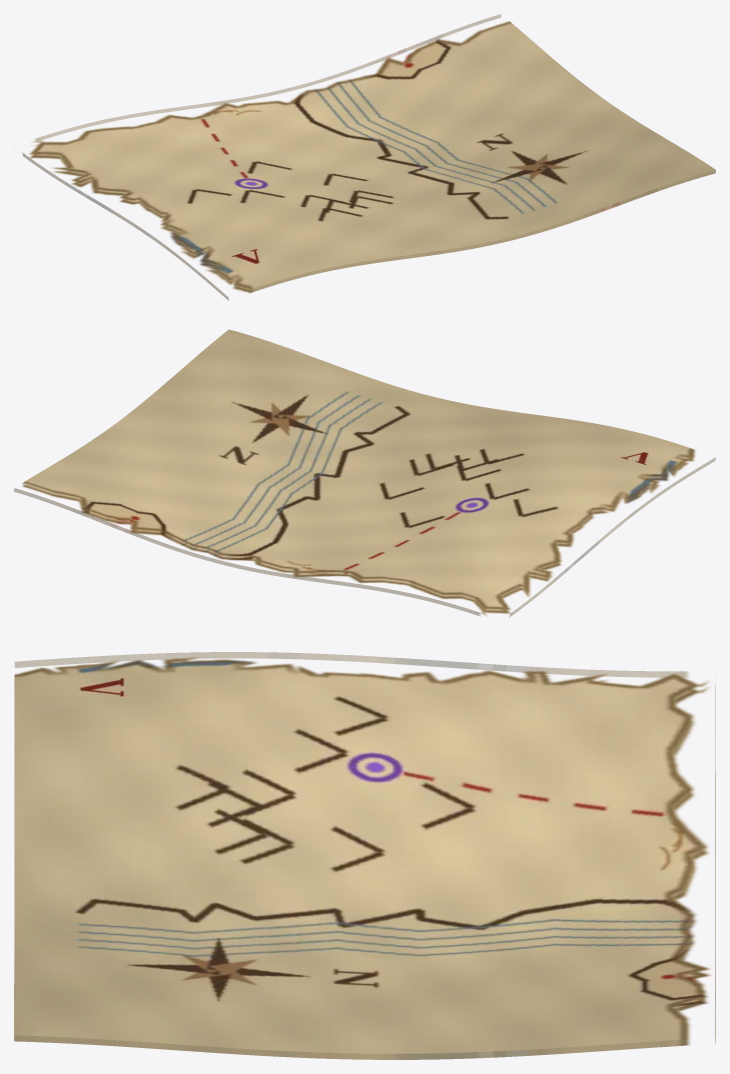
The model's file is kartenstueck_5.glb.
3 renders of one model, top to bottom at view 1: azimuth 30°, elevation 25°; view 2: azimuth 150°, elevation 25°; view 3: azimuth 270°, elevation 25°, orthographic. The views are drawn at different scales.
Visible parts, largest first — view 1: kartenstueck_5; view 2: kartenstueck_5; view 3: kartenstueck_5.
Part boxes in pixels (<box>): kartenstueck_5: <box>22,14,715,300</box>; kartenstueck_5: <box>14,329,715,617</box>; kartenstueck_5: <box>14,652,715,1059</box>.
Bounding box in the file's own units: 0.2063 × 0.0135 × 0.1576.
Materials: 1 (1 with a texture image).
